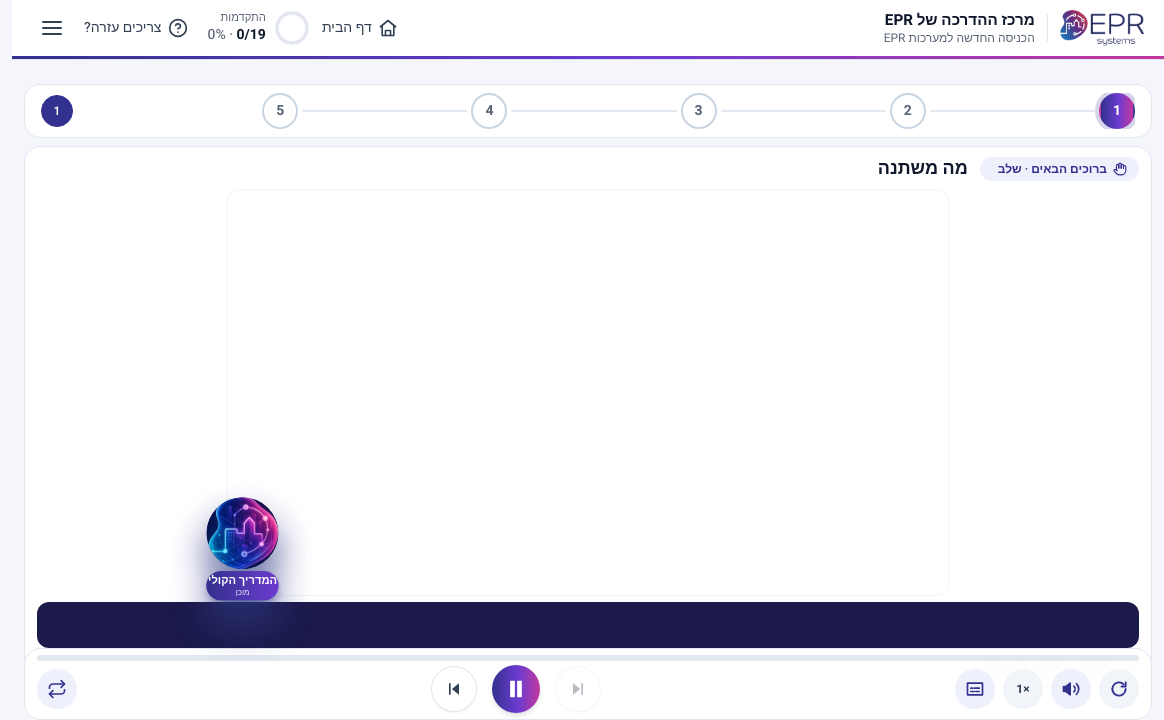
Test: App › goes to step 1.1 on 'הבא' and marks 0.1 done
What coordinates should you click on to do the following:
click the button named "הבא"
I would click on:
 (454, 689)
Its box is x1=432 y1=667 x2=476 y2=711.
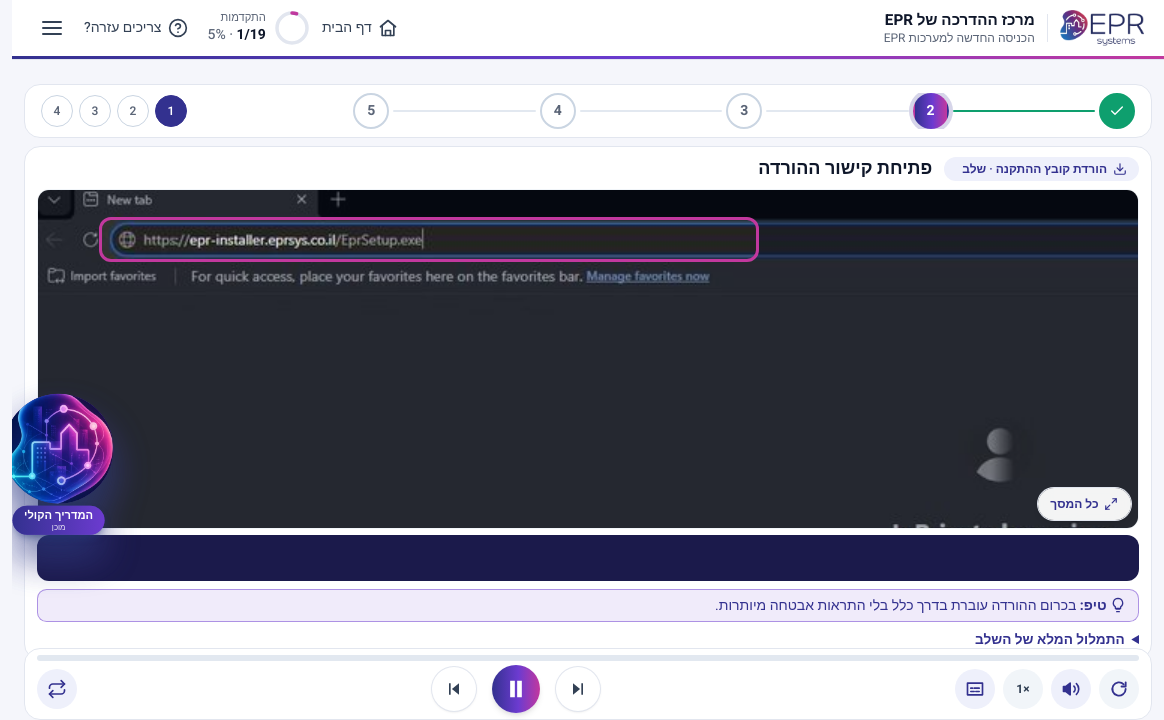
Now the heading "פתיחת קישור ההורדה" is shown, box x1=758 y1=155 x2=932 y2=183
